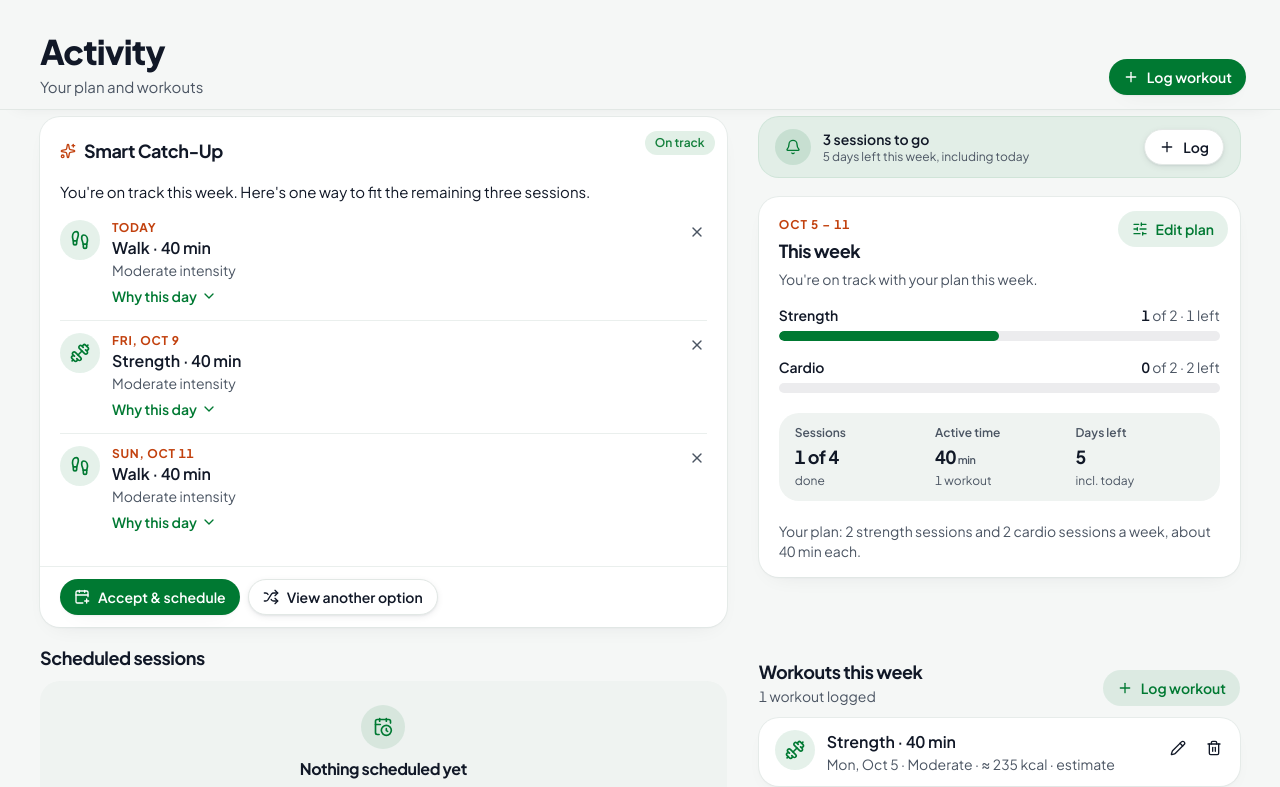
Activity: weekly plan › recomputes progress and Smart Catch-Up right after the plan changes midweek
Expected: the heading "This week" is shown, [779,239,860,262]
Expected: the text "You're on track this week. Here's one way to fit the remaining three sessions." is shown, [60,182,590,201]
Step 1. Click the button "Edit plan" → (1173,229), box [1118,211,1228,247]
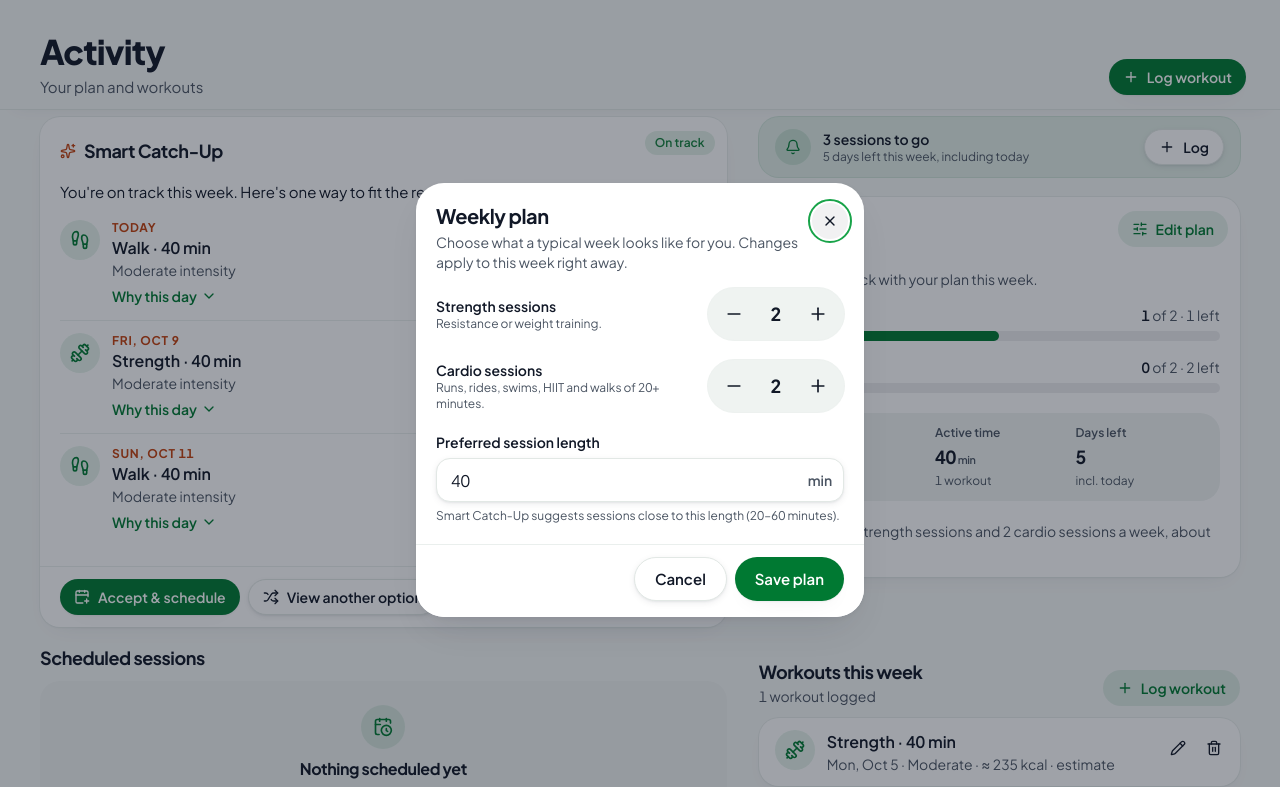
Step 2. Click the button named "Fewer strength sessions" → (734,314), box [712,292,756,336]
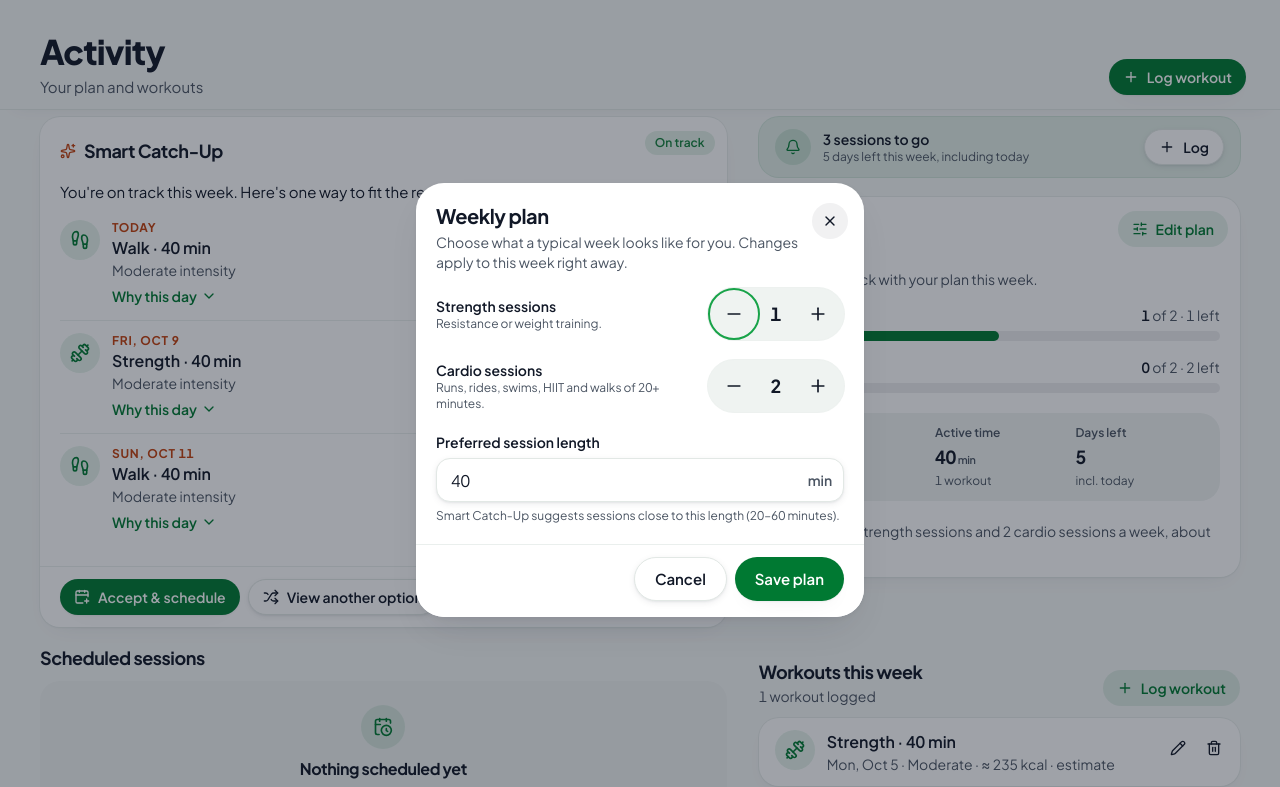
Step 3. Click the button "Save plan" → (789,579), box [735,557,844,601]
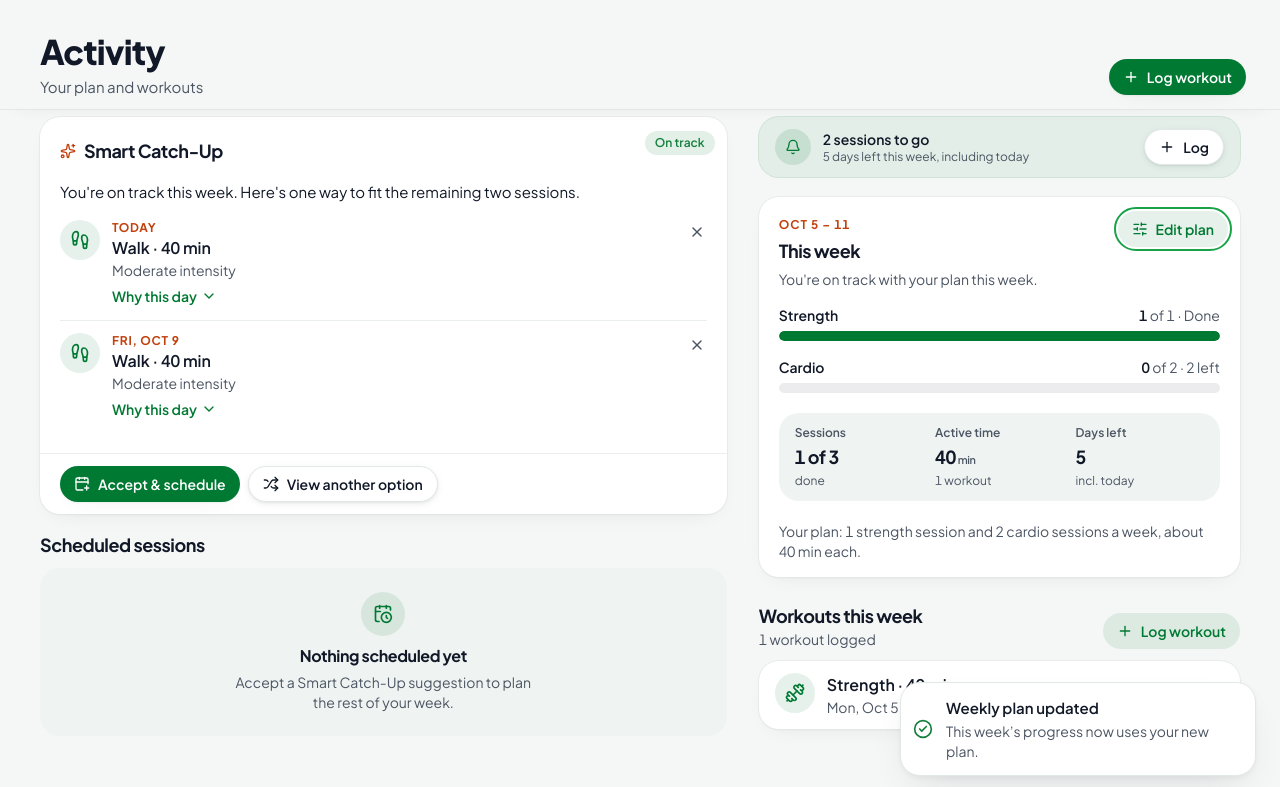
Result: the text "Weekly plan updated" is shown at [946,698,1099,716]
Result: the text "You're on track this week. Here's one way to fit the remaining two sessions." is shown at [60,182,580,201]
